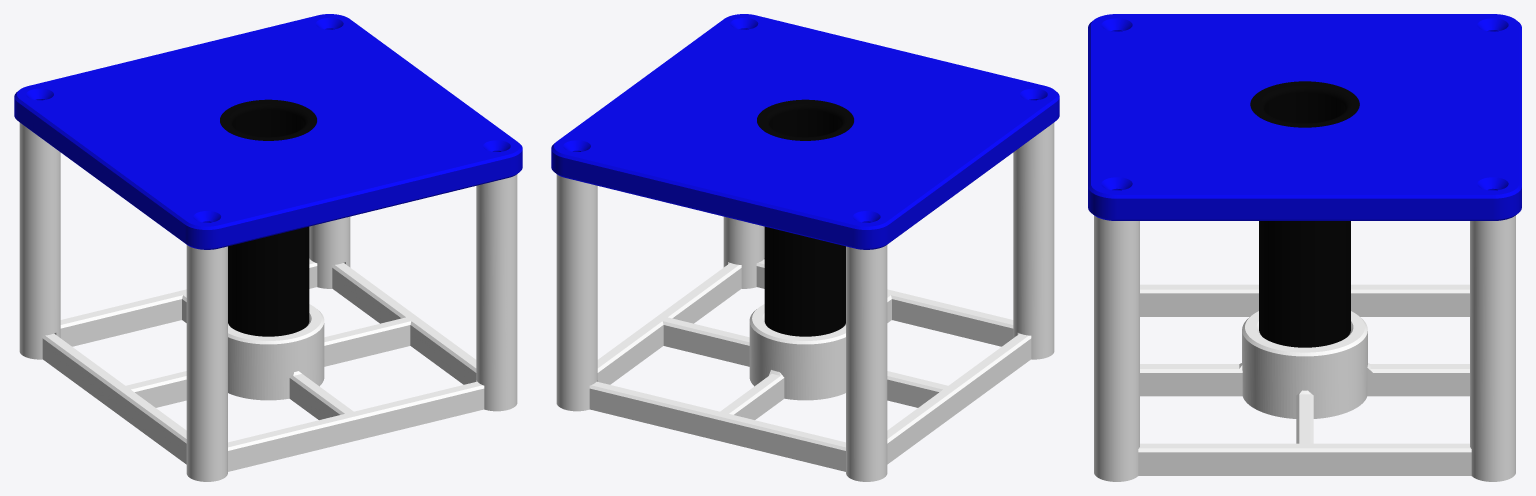
Rendered from target.dae.
The picture shows the model from 3 angles, left to right: view 1: azimuth 30°, elevation 25°; view 2: azimuth 150°, elevation 25°; view 3: azimuth 270°, elevation 25°; orthographic projection. The views are drawn at different scales.
Parts seen in each view (by area): view 1: obj2, obj1, obj3; view 2: obj2, obj1, obj3; view 3: obj2, obj1, obj3.
Boxes of the visible parts, <box> form: obj2: <box>14,14,522,249</box>; obj1: <box>19,122,517,481</box>; obj3: <box>220,99,316,336</box>; obj2: <box>551,14,1059,249</box>; obj1: <box>556,122,1054,481</box>; obj3: <box>757,99,853,336</box>; obj2: <box>1088,14,1521,220</box>; obj1: <box>1094,215,1515,481</box>; obj3: <box>1250,81,1359,347</box>.
Bounding box in the file's own units: 0.15 × 0.15 × 0.11.
